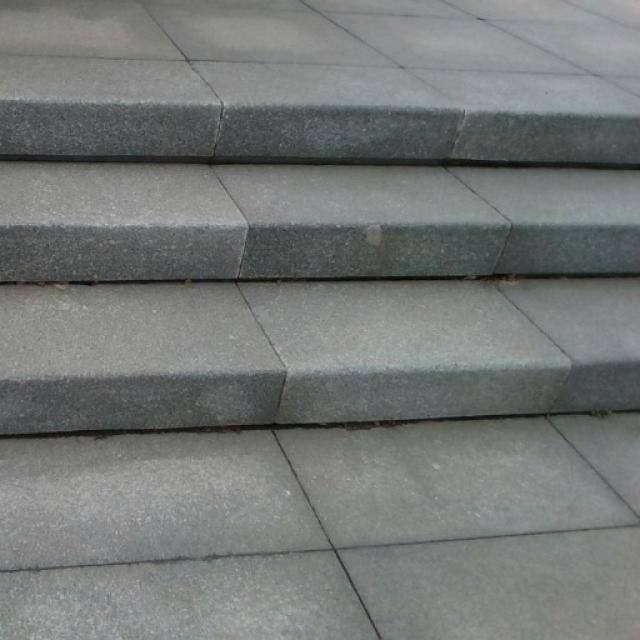Stairs: (0, 53, 639, 474)
